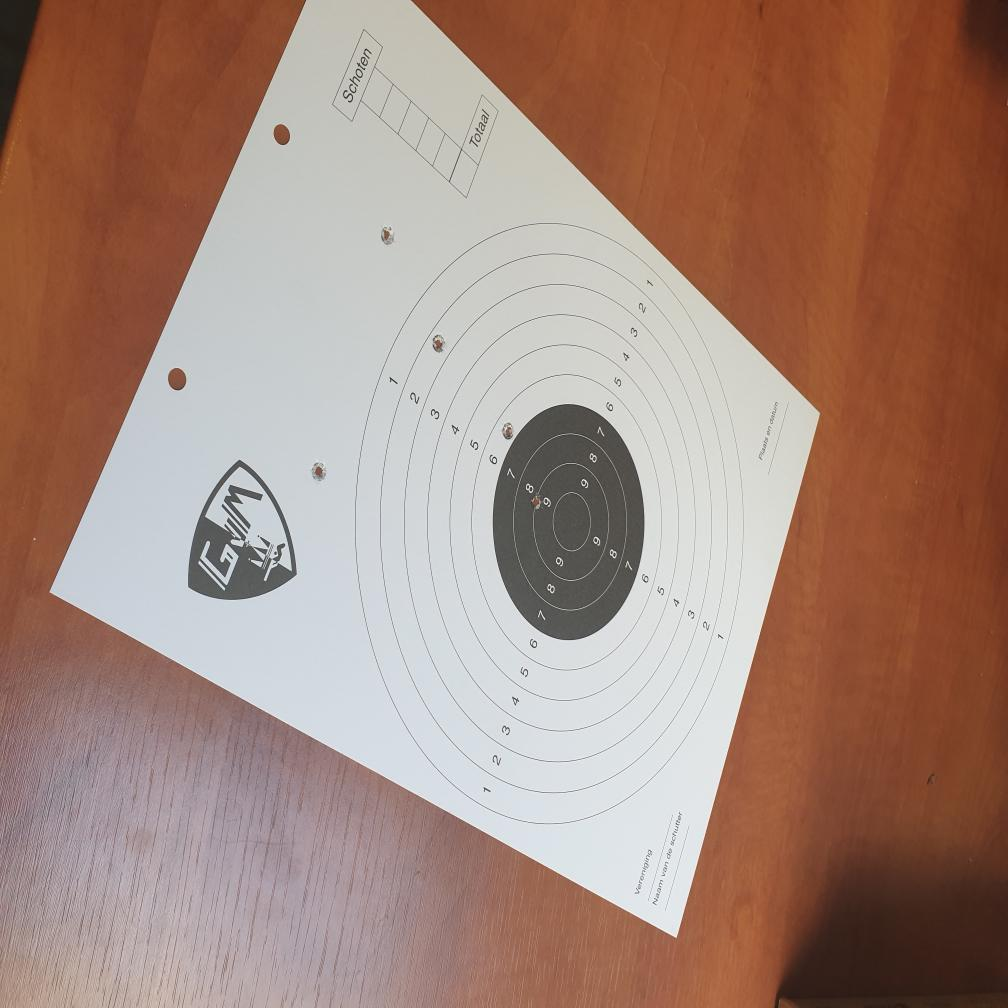0: (378, 223, 397, 247), (310, 460, 327, 482)
2: (431, 332, 446, 354)
6: (501, 420, 515, 441)
9: (528, 490, 542, 513)
Target: (352, 218, 748, 826)
black_contour: (494, 404, 645, 640)
